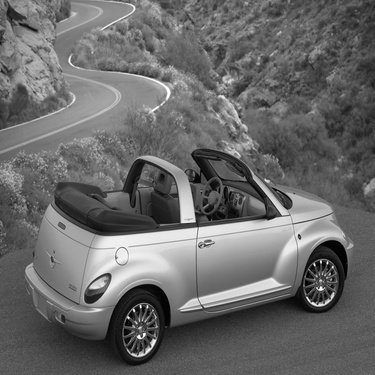car: (15, 138, 360, 370)
